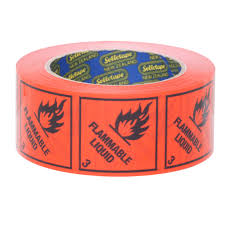FlammableLiquid: (75, 94, 161, 173)
